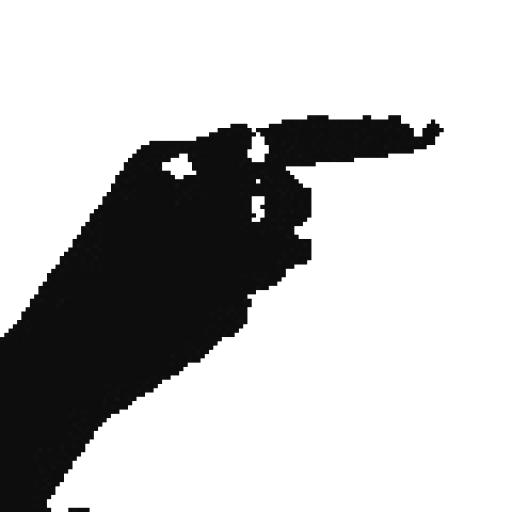index_right: (0, 113, 442, 329)
